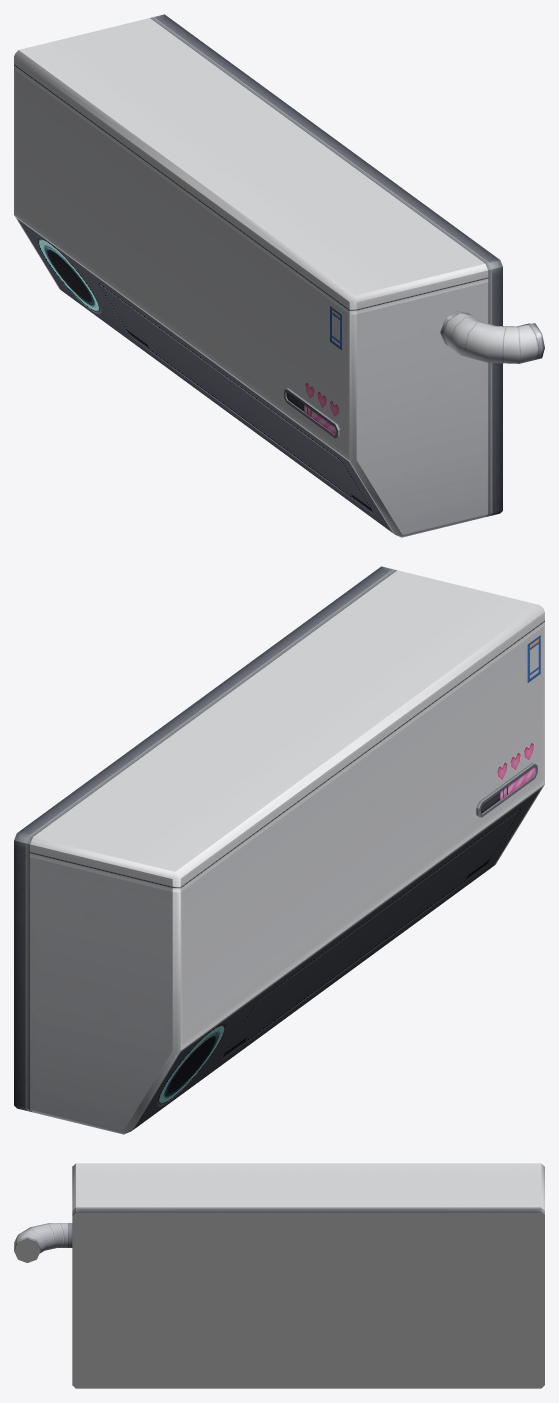
The model's file is my_gamedevdept_01_airconditioner_01.glb.
The picture shows the model from 3 angles, top to bottom: view 1: azimuth 30°, elevation 25°; view 2: azimuth 150°, elevation 25°; view 3: azimuth 270°, elevation 25°; orthographic projection. The views are drawn at different scales.
Visible parts, largest first — view 1: my_gamedevdept_01_airconditioner_01; view 2: my_gamedevdept_01_airconditioner_01; view 3: my_gamedevdept_01_airconditioner_01.
Part boxes in pixels (<box>): my_gamedevdept_01_airconditioner_01: <box>14,14,544,537</box>; my_gamedevdept_01_airconditioner_01: <box>14,566,544,1134</box>; my_gamedevdept_01_airconditioner_01: <box>14,1163,544,1388</box>.
Size of the model in its own units: 0.00251 by 0.00397 by 0.0109.
Materials: 1 (1 with a texture image).
